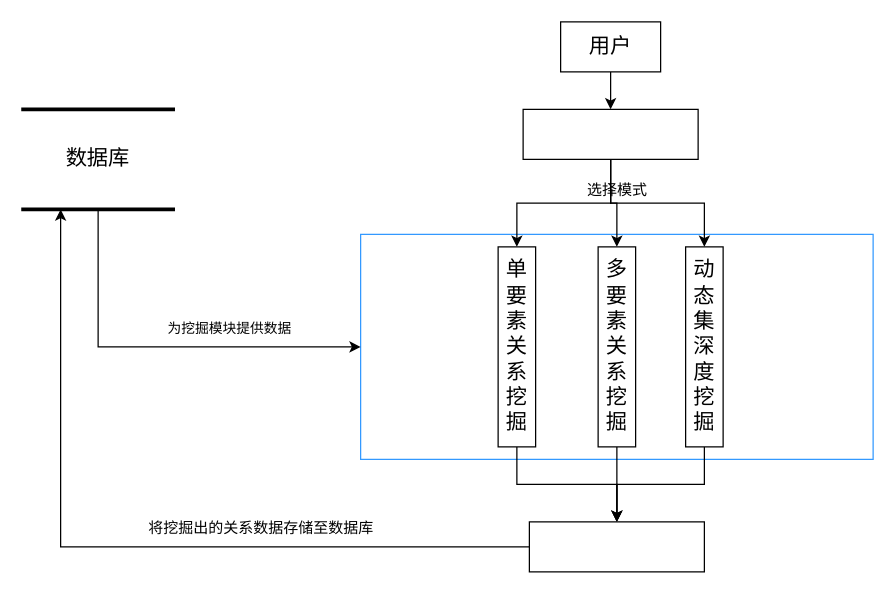
The diagram is 895 pixels wide and 594 high, and some of its shapes have lost their labels. Here are the shapes that lost their labels. From the top down, the box of each, then its label:
(522, 108, 698, 159): 登录系统
(528, 521, 704, 572): 分析结果
